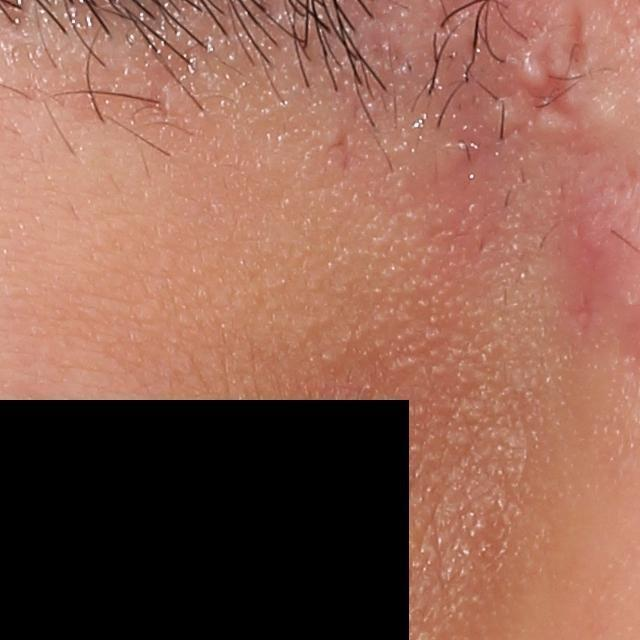atrophic_scar: (495, 46, 586, 123), (569, 7, 585, 78)
hypertrophic_scar: (530, 103, 582, 139), (519, 41, 553, 88), (487, 95, 528, 131)
